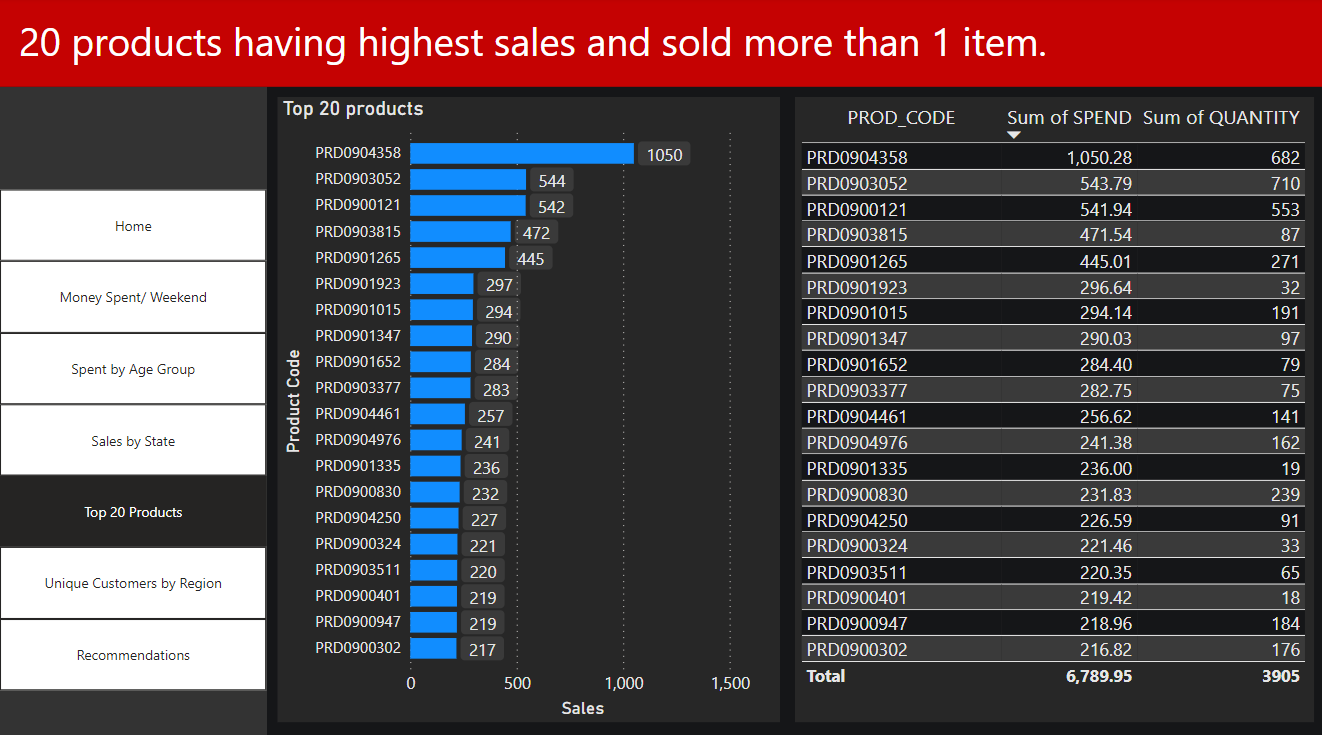

Layout of this report page (visuals, bound fields, positions):
{"tool":"powerbi","page":{"name":"Top 20 Products","canvas":[1280,720],"ordinal":4},"visuals":[{"type":"shape","box":[0,0,1279.9,86.8],"z":0},{"type":"shape","box":[0,86.8,257.9,633.2],"z":1000},{"type":"clusteredBarChart","title":"Top 20 products","fields":{"Category":["TRANSACTIONS.PROD_CODE"],"Y":["Sum(TRANSACTIONS.SPEND)"]},"box":[267.7,96.5,484.8,603],"z":2000},{"type":"pageNavigator","box":[0,185.8,257.9,485.3],"z":3000},{"type":"textbox","box":[13.3,12.1,1245.8,74.8],"z":4000},{"type":"tableEx","fields":{"Values":["TRANSACTIONS.PROD_CODE","Sum(TRANSACTIONS.SPEND)","Sum(TRANSACTIONS.QUANTITY)"]},"box":[767,96.5,500.5,603],"z":5000}]}

Visuals, with their boxes in screenshot pixels (x1, y1, x2, y2), scaled from the page's 1280x720 canvas onto the 1322x735 screenshot:
shape: {"left": 0, "top": 0, "right": 1321, "bottom": 89}
shape: {"left": 0, "top": 89, "right": 266, "bottom": 734}
"Top 20 products" clusteredBarChart: {"left": 276, "top": 99, "right": 777, "bottom": 714}
pageNavigator: {"left": 0, "top": 190, "right": 266, "bottom": 685}
textbox: {"left": 14, "top": 12, "right": 1300, "bottom": 89}
tableEx - TRANSACTIONS.PROD_CODE x Sum(TRANSACTIONS.SPEND): {"left": 792, "top": 99, "right": 1309, "bottom": 714}
